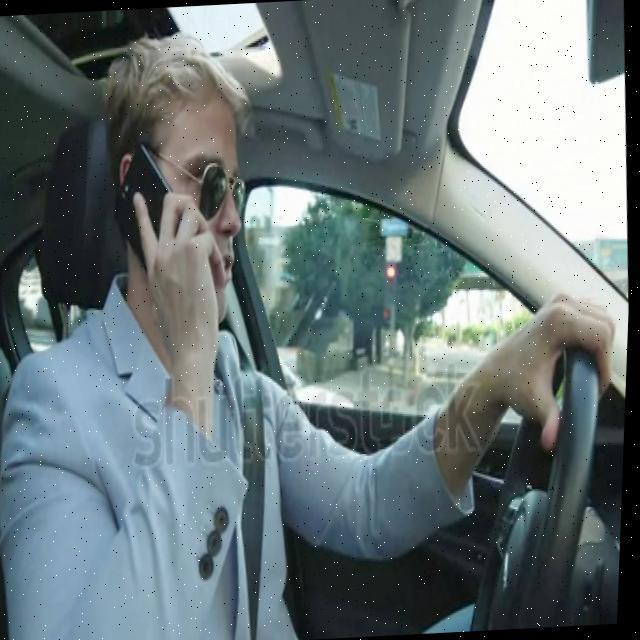PhoneCall: (106, 144, 196, 296)
